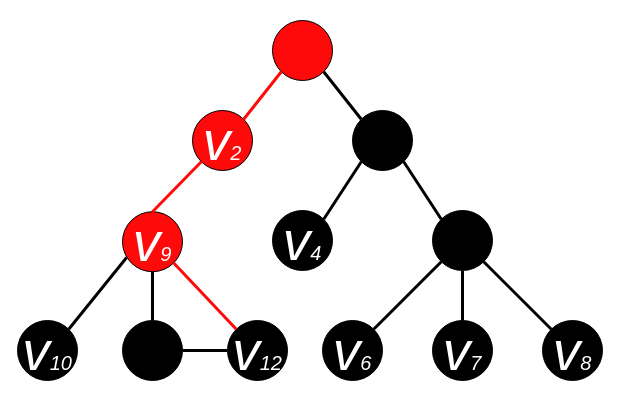
This 620x401 diagram has some shape labels left out. The shapes that lost their labels are listed below. From the top down, each one's centre as x and y in pixels, then its label:
(302,50): v 1
(382,140): v 3
(462,240): v 5
(152,350): v 11
